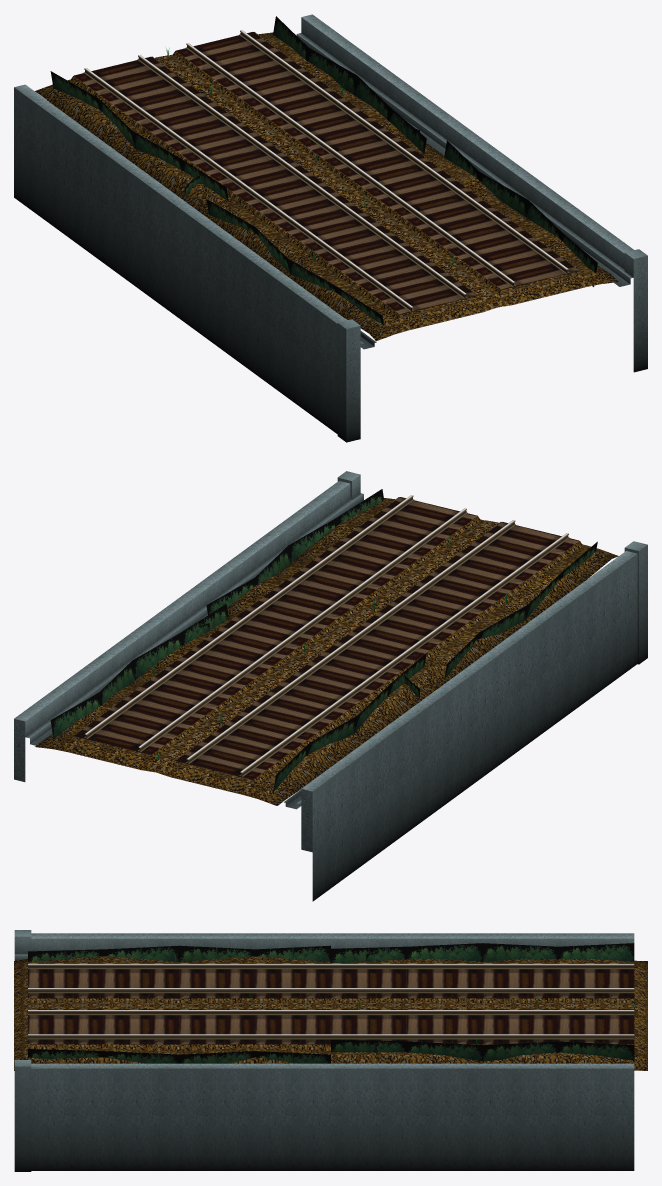
File: K_JARI_2RAIL50_GLASS.glb
3 renders of one model, top to bottom at view 1: azimuth 30°, elevation 25°; view 2: azimuth 150°, elevation 25°; view 3: azimuth 270°, elevation 25°, orthographic. The views are drawn at different scales.
Visible parts, largest first — view 1: obj3, last; view 2: obj3, last; view 3: obj3, last.
Boxes of the visible parts, x1,y1,x2,y2 form: obj3: (14,14,634,433); last: (337,249,647,442); obj3: (14,481,637,901); last: (337,471,647,664); obj3: (14,933,647,1170); last: (14,930,31,1171).
Bounding box in the file's own units: 26.63 × 10.11 × 52.26.
Materials: 14 (14 with a texture image).
